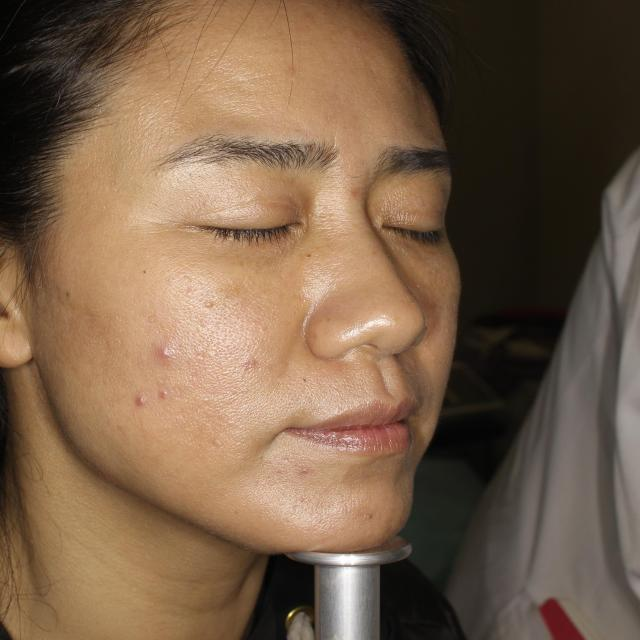comedone: (152, 342, 178, 362), (150, 386, 177, 401), (133, 387, 147, 411)
